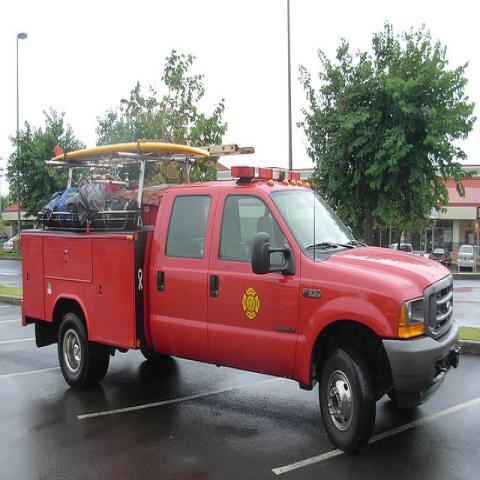car: (455, 243, 475, 271), (429, 247, 452, 265), (3, 236, 16, 253), (402, 243, 414, 255), (388, 244, 400, 250)
truck: (17, 140, 462, 460)
